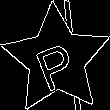P_N: (30, 29, 82, 90)
